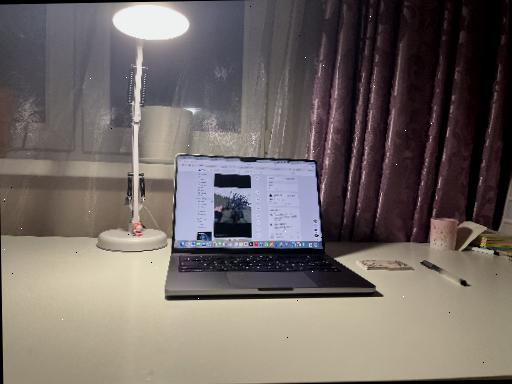vk: (174, 152, 323, 246)
